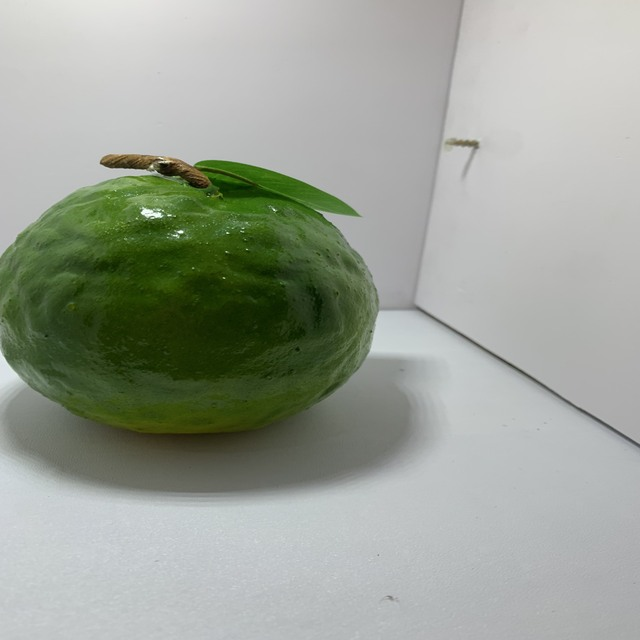Cam xanh: (0, 153, 385, 443)
